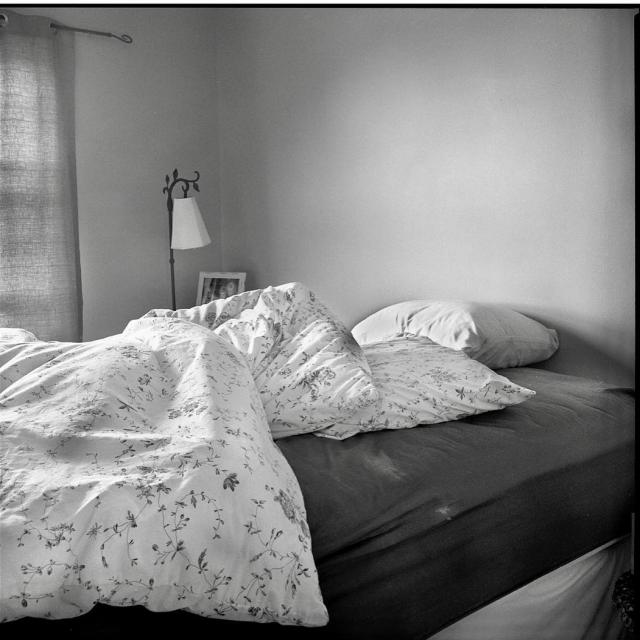bed: (0, 280, 632, 640)
